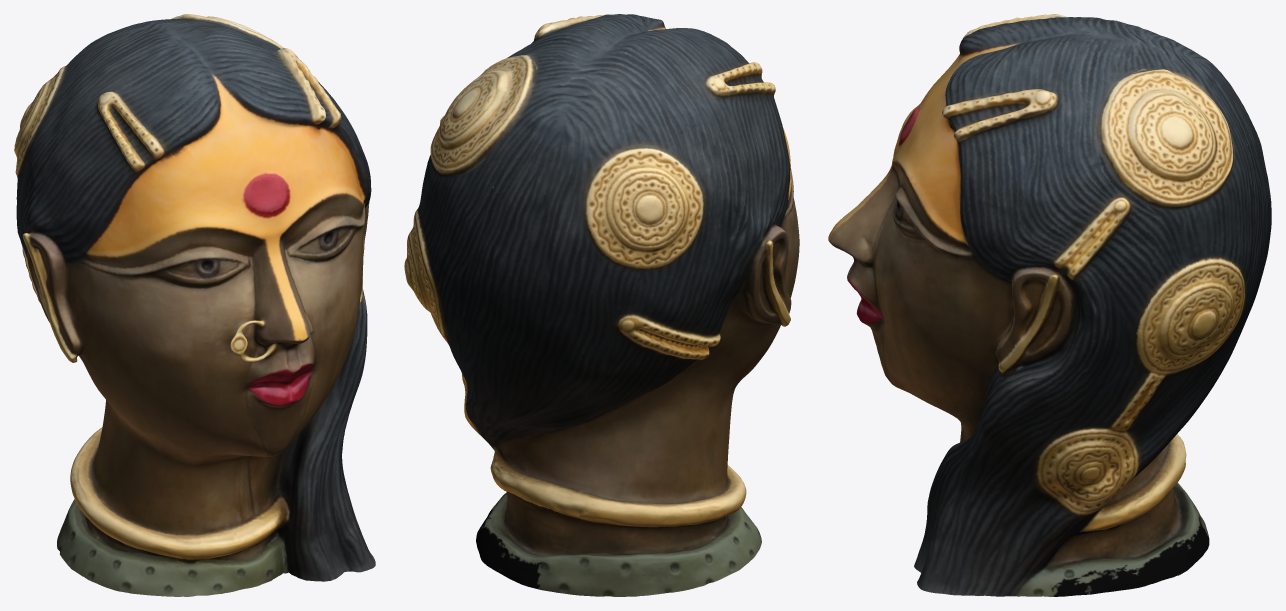
The model's file is thota-untitled-head-with-nose-ring.glb.
3 views of the same model, side by side, from view 1: azimuth 30°, elevation 25°; view 2: azimuth 150°, elevation 25°; view 3: azimuth 270°, elevation 25° (orthographic).
Visible parts, largest first — view 1: Mesh; view 2: Mesh; view 3: Mesh.
Boxes of the visible parts, bbox=[...] form: Mesh: bbox=[14, 14, 375, 596]; Mesh: bbox=[404, 14, 799, 596]; Mesh: bbox=[828, 14, 1271, 596].
Bounding box in the file's own units: 4.29 × 6.24 × 4.96.
1 material, 1 textured.
